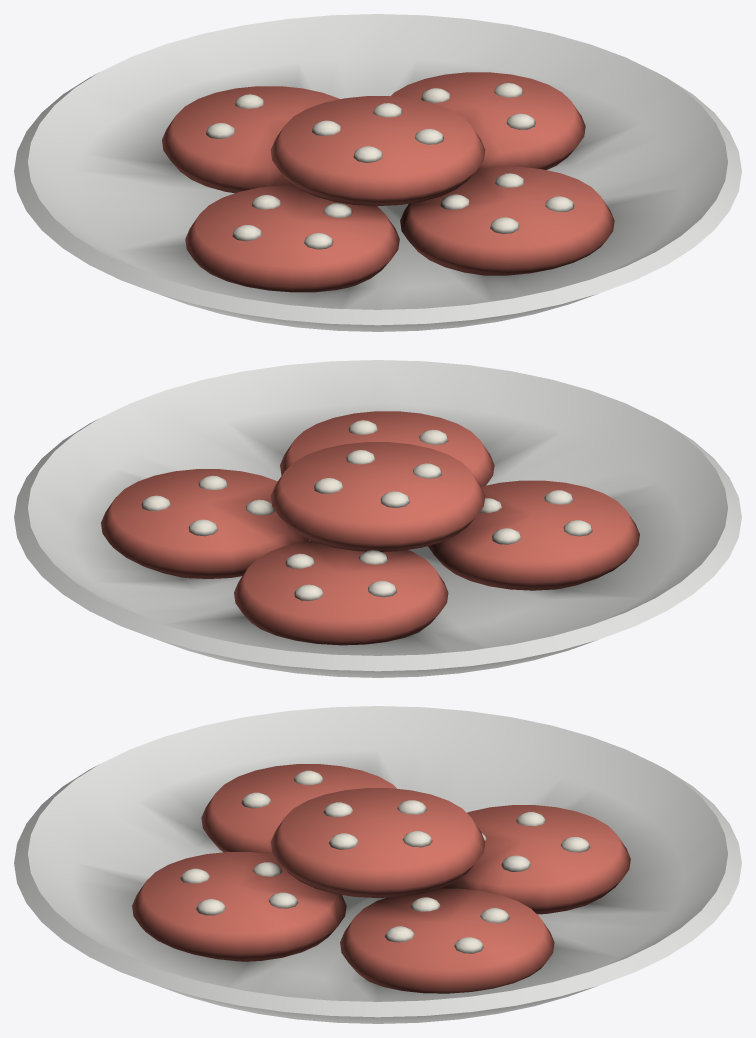
Rendered from meal_cookie.glb.
3 views of the same model, one above another, from view 1: azimuth 30°, elevation 25°; view 2: azimuth 150°, elevation 25°; view 3: azimuth 270°, elevation 25° (orthographic).
Visible parts, largest first — view 1: PART; view 2: PART; view 3: PART.
Boxes of the visible parts, x1,y1,x2,y2 form: PART: (14,14,741,331); PART: (14,360,741,677); PART: (14,706,741,1023).
Size of the model in its own units: 0.21 by 0.0322 by 0.21.
